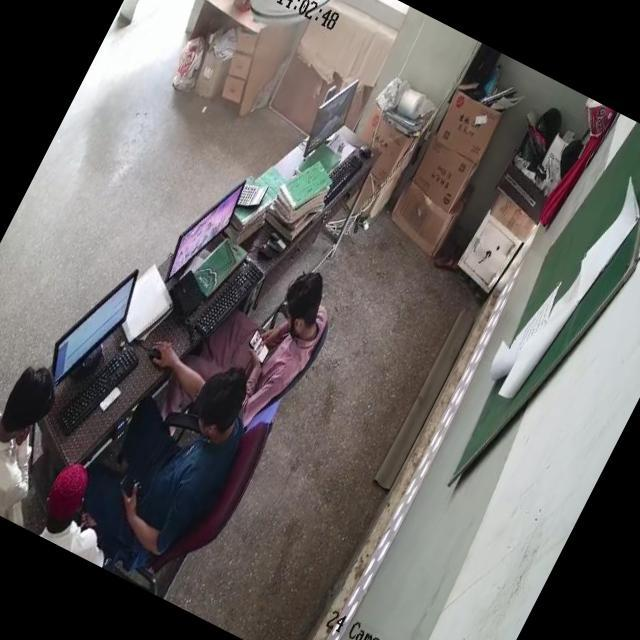person: (93, 342, 274, 554), (201, 242, 341, 394), (0, 352, 83, 524), (27, 454, 128, 562), (0, 303, 27, 478)
